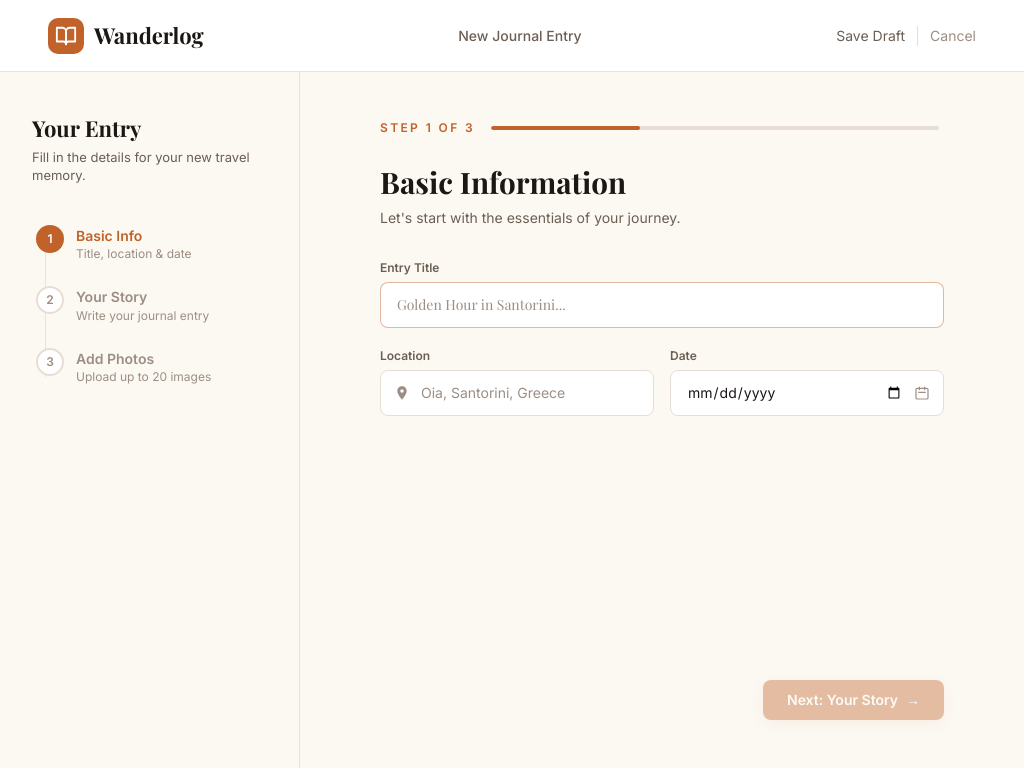
Scenario: CreateEntry › clicking Next with valid step-0 data advances to step 1 (Your Story)
Type "Lisbon at Dawn" into the field with placeholder "Golden Hour in Santorini..." at (662, 305), box top-left (380, 282), bottom-right (944, 328)
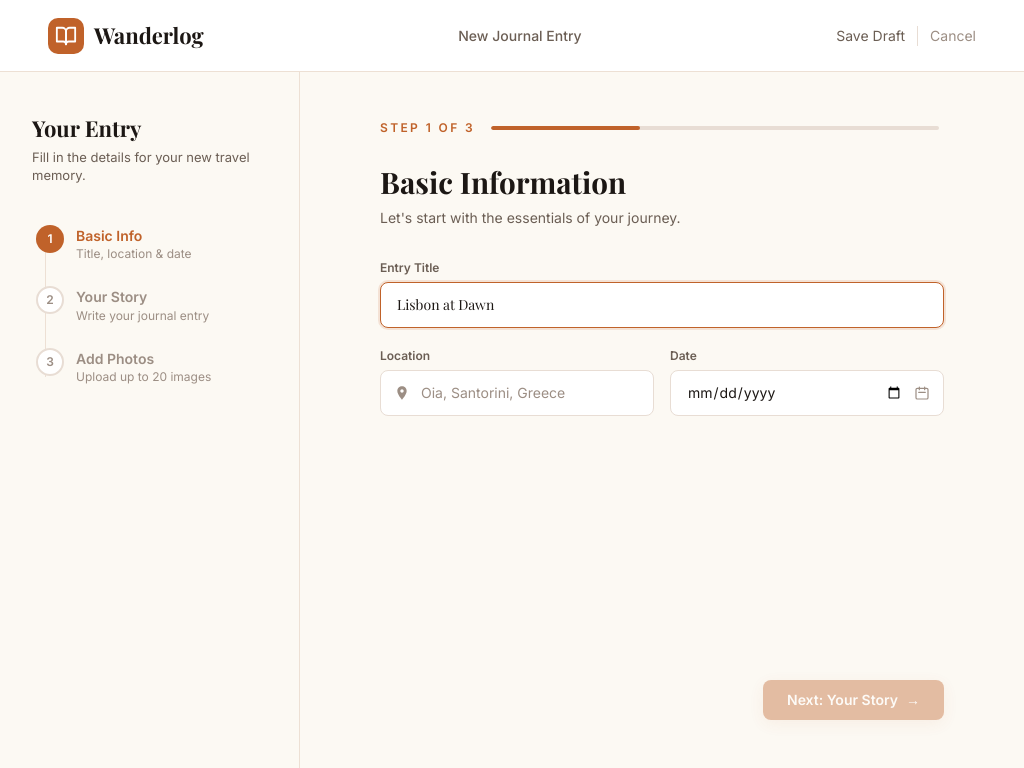
Type "Lisbon, Portugal" into the field with placeholder "Oia, Santorini, Greece" at (517, 393), box top-left (380, 370), bottom-right (654, 416)
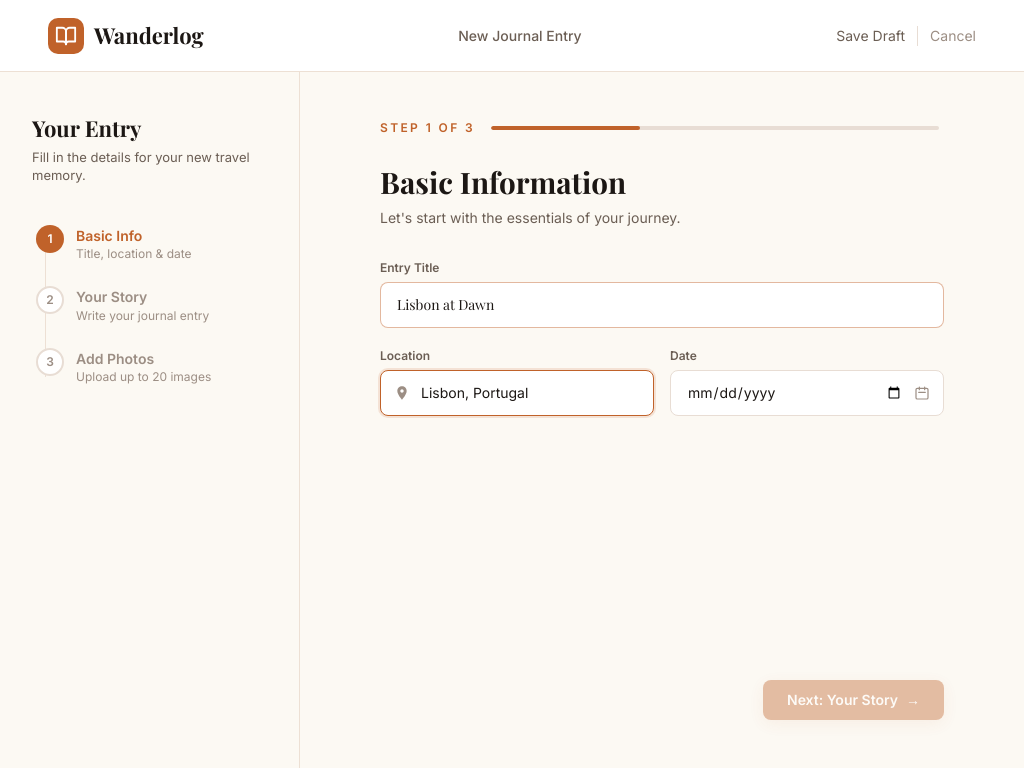
Type "2024-06-01" into the date field at (807, 393), box top-left (670, 370), bottom-right (944, 416)
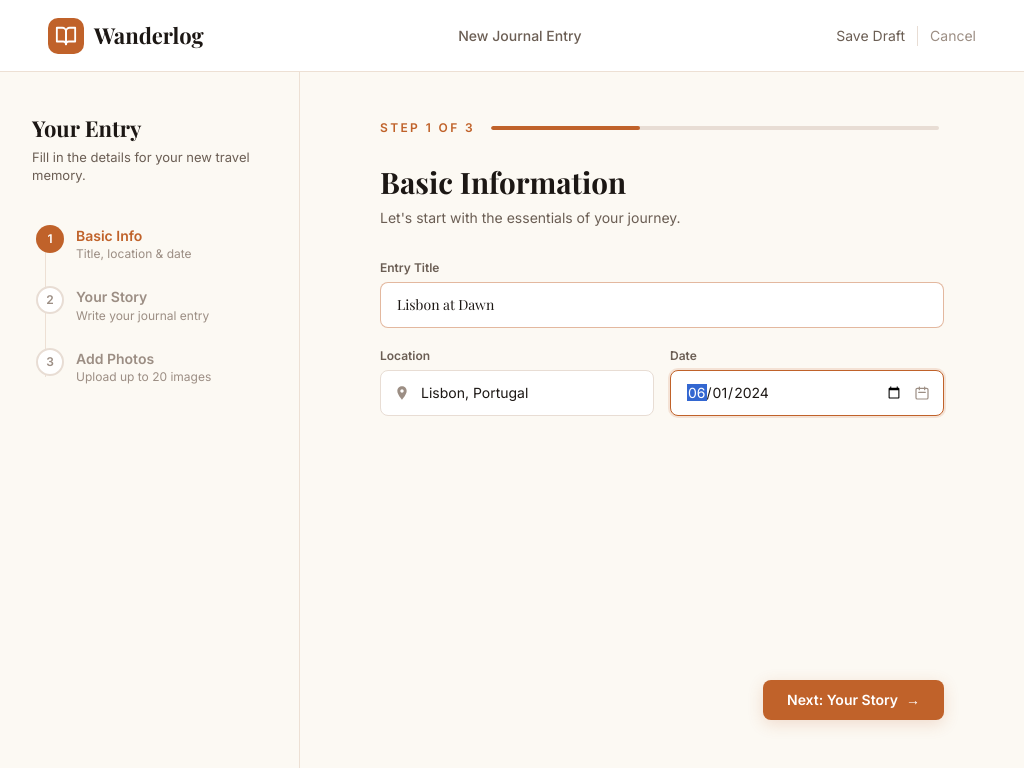
Click the button "Next: Your Story →" at (854, 700), box top-left (763, 680), bottom-right (944, 720)
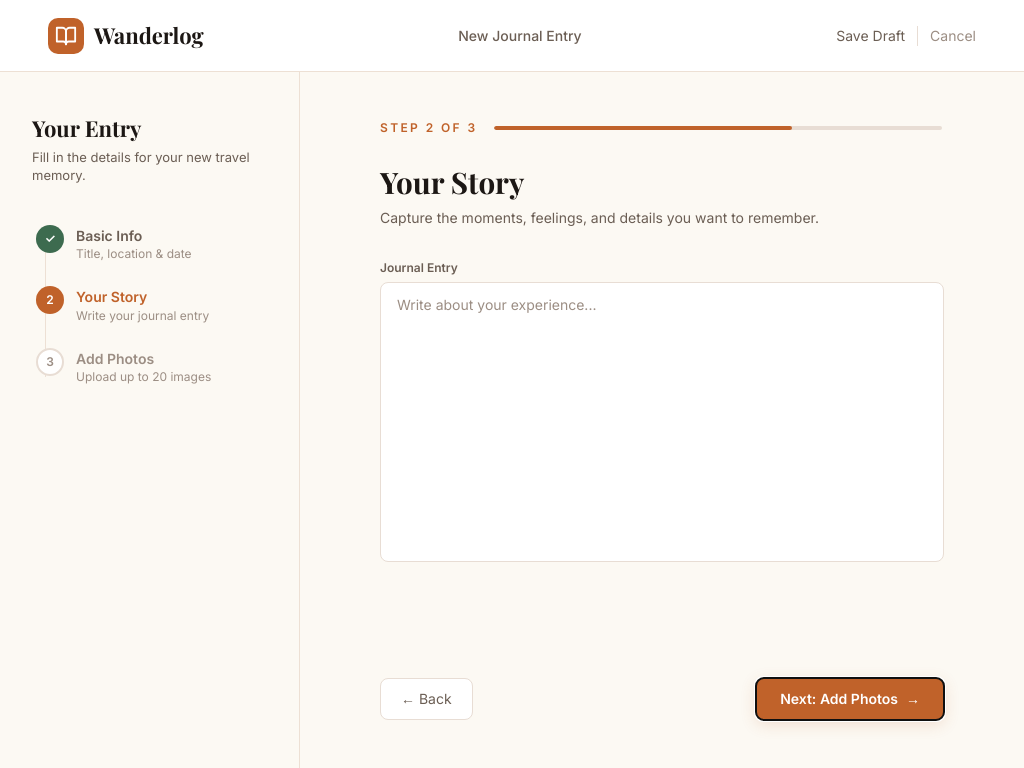
expect the heading "Your Story" is shown: met, box top-left (380, 162), bottom-right (524, 201)
